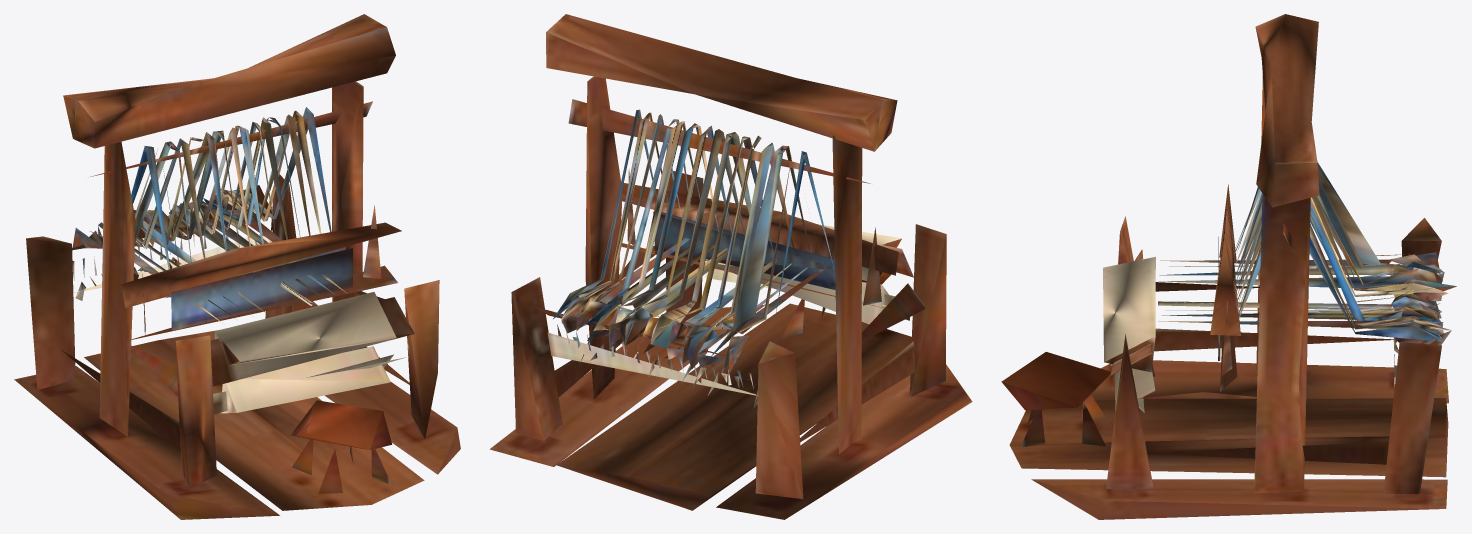
Rendered from at-metier-semis.glb.
3 renders of one model, left to right at view 1: azimuth 30°, elevation 25°; view 2: azimuth 150°, elevation 25°; view 3: azimuth 270°, elevation 25°, orthographic. The views are drawn at different scales.
Parts seen in each view (by area): view 1: at-metier-semis; view 2: at-metier-semis; view 3: at-metier-semis.
Part boxes in pixels (x1,y1,x2,y2): at-metier-semis: (14, 14, 460, 519); at-metier-semis: (489, 14, 972, 519); at-metier-semis: (1001, 14, 1456, 519).
Size of the model in its own units: 0.7766 by 0.8707 by 0.987.
Materials: 1 (1 with a texture image).
